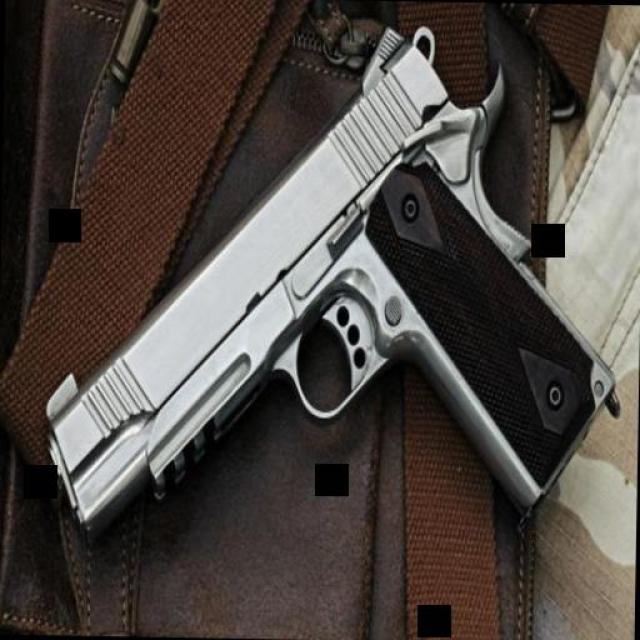gun: (24, 14, 630, 545)
